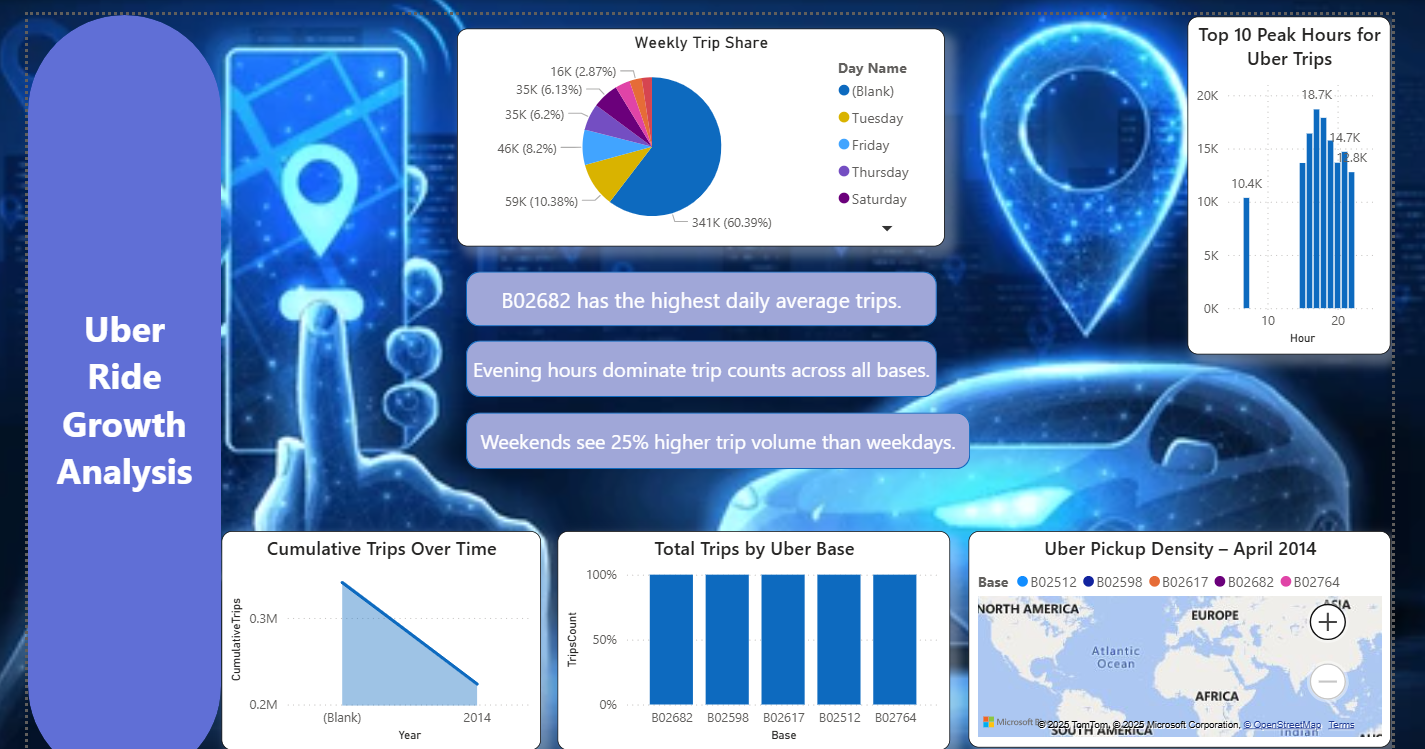

The page's visual inventory and layout, read from the dashboard file:
{"tool":"powerbi","page":{"name":"Page 2","canvas":[1280,720],"ordinal":1},"visuals":[{"type":"filledMap","title":"Uber Pickup Density – April 2014","fields":{"Y":["Avg(uber-raw-data-apr14.Lat)"],"X":["Avg(uber-raw-data-apr14.Lon)"],"Series":["uber-raw-data-apr14.Base"]},"box":[882.8,484.4,396.9,203.1],"z":0},{"type":"hundredPercentStackedColumnChart","title":"Total Trips by Uber Base","fields":{"Category":["uber-raw-data-apr14.Base"],"Y":["uber-raw-data-apr14.TripsCount"]},"box":[496.9,484.4,368.8,206.2],"z":1000},{"type":"clusteredColumnChart","title":"Top 10 Peak Hours for Uber Trips","fields":{"Category":["uber-raw-data-apr14.Hour"],"Y":["uber-raw-data-apr14.TripsCount"]},"box":[1089.1,1.6,190.6,317.2],"z":2000},{"type":"pieChart","title":"Weekly Trip Share","fields":{"Category":["uber-raw-data-apr14.Day Name"],"Y":["uber-raw-data-apr14.TripsCount"]},"box":[403.1,12.5,457.8,204.7],"z":3000},{"type":"areaChart","title":"Cumulative Trips Over Time","fields":{"Category":["uber-raw-data-apr14.DateOnly.Variation.Date Hierarchy.Year","uber-raw-data-apr14.DateOnly.Variation.Date Hierarchy.Quarter","uber-raw-data-apr14.DateOnly.Variation.Date Hierarchy.Month","uber-raw-data-apr14.DateOnly.Variation.Date Hierarchy.Day"],"Y":["uber-raw-data-apr14.CumulativeTrips"]},"box":[181.2,484.4,300,206.2],"z":4000},{"type":"shape","box":[0,0,181.2,720.3],"z":5000},{"type":"shape","box":[410.9,240.6,442.2,51.6],"z":6000},{"type":"shape","box":[410.9,306.2,442.2,53.1],"z":7000},{"type":"shape","box":[410.9,373.4,473.4,53.1],"z":8000}]}

Visuals, with their boxes on the page's 1280x720 design canvas (x1, y1, x2, y2). These are canvas units, not pixel positions in the 1425x749 screenshot, which may show the page scaled, cropped or inside an application window:
"Uber Pickup Density – April 2014" filledMap: 883:484:1280:688
"Total Trips by Uber Base" hundredPercentStackedColumnChart: 497:484:866:691
"Top 10 Peak Hours for Uber Trips" clusteredColumnChart: 1089:2:1280:319
"Weekly Trip Share" pieChart: 403:12:861:217
"Cumulative Trips Over Time" areaChart: 181:484:481:691
shape: 0:0:181:720
shape: 411:241:853:292
shape: 411:306:853:359
shape: 411:373:884:426
